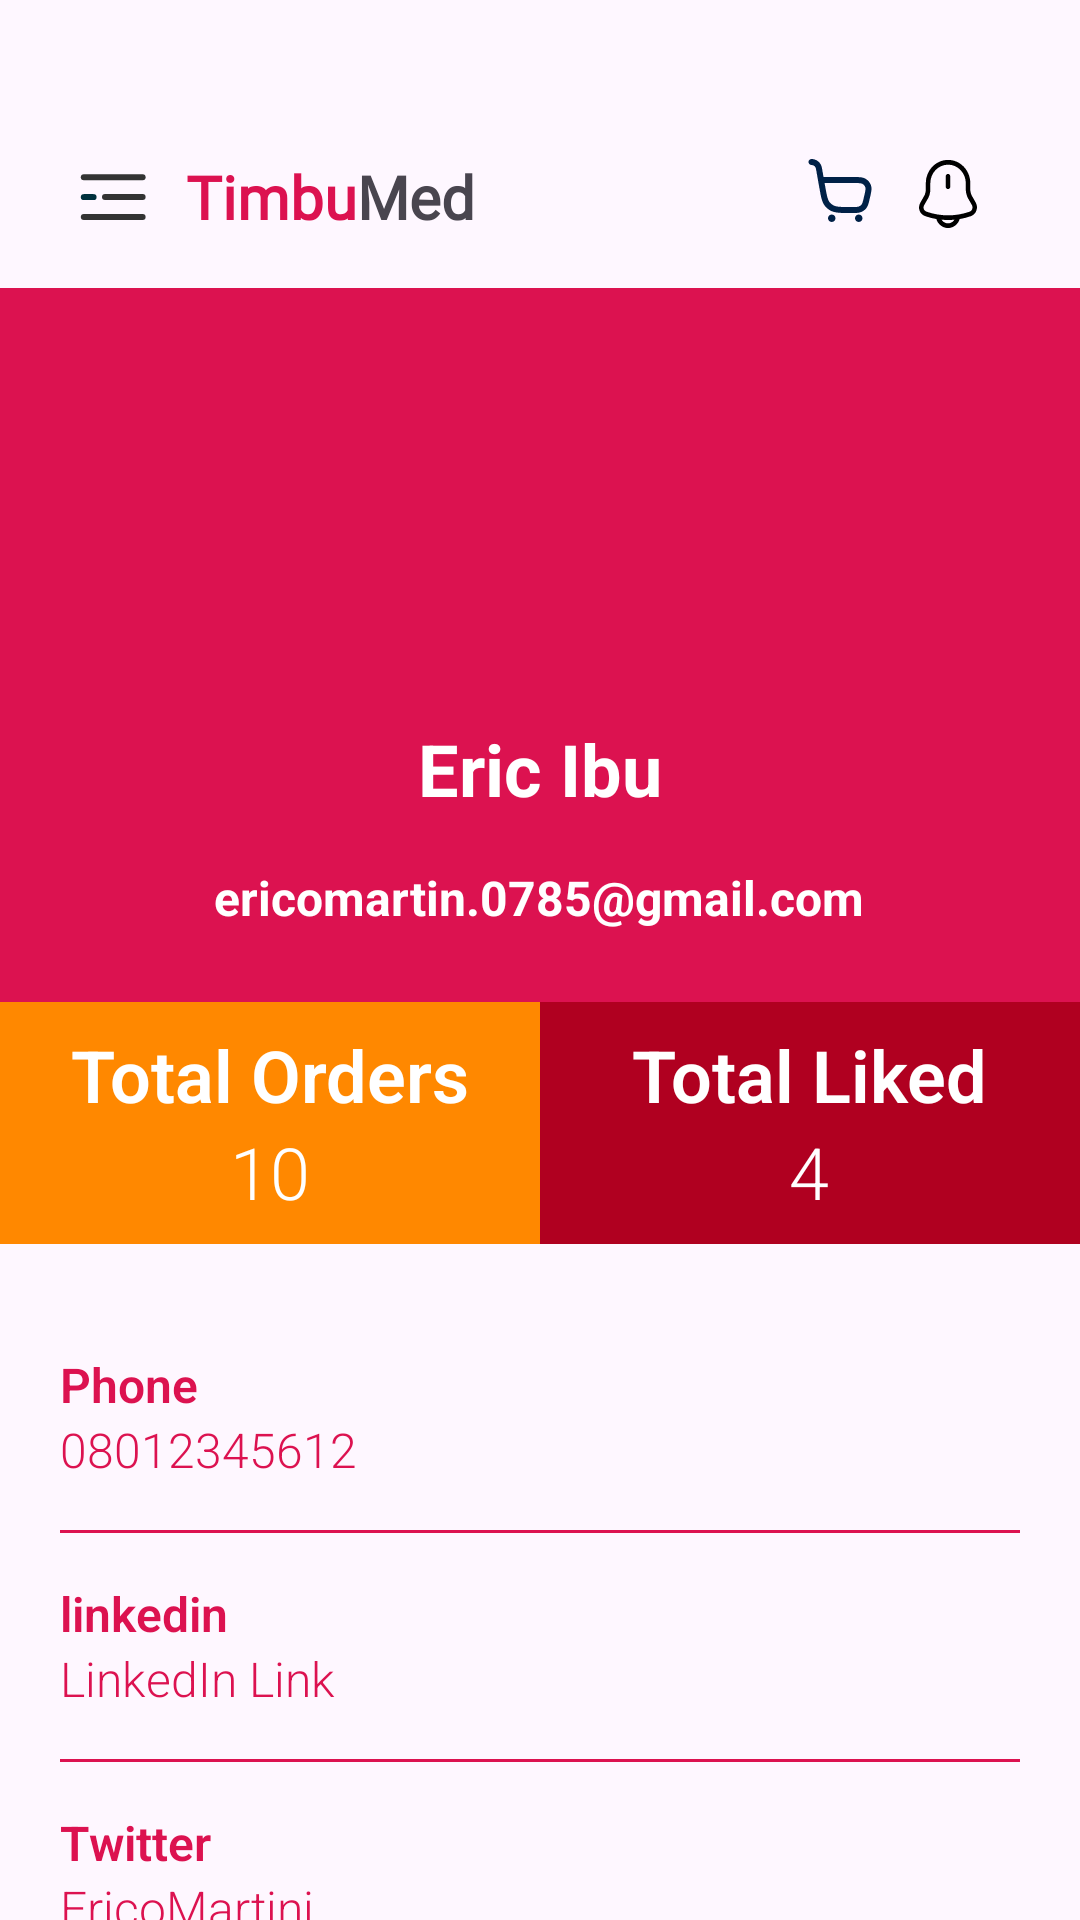

Named icons in this screenshot (1080*1920) and their centers, [x,y]:
menu: [113,197]
notification bing: [948,194]
